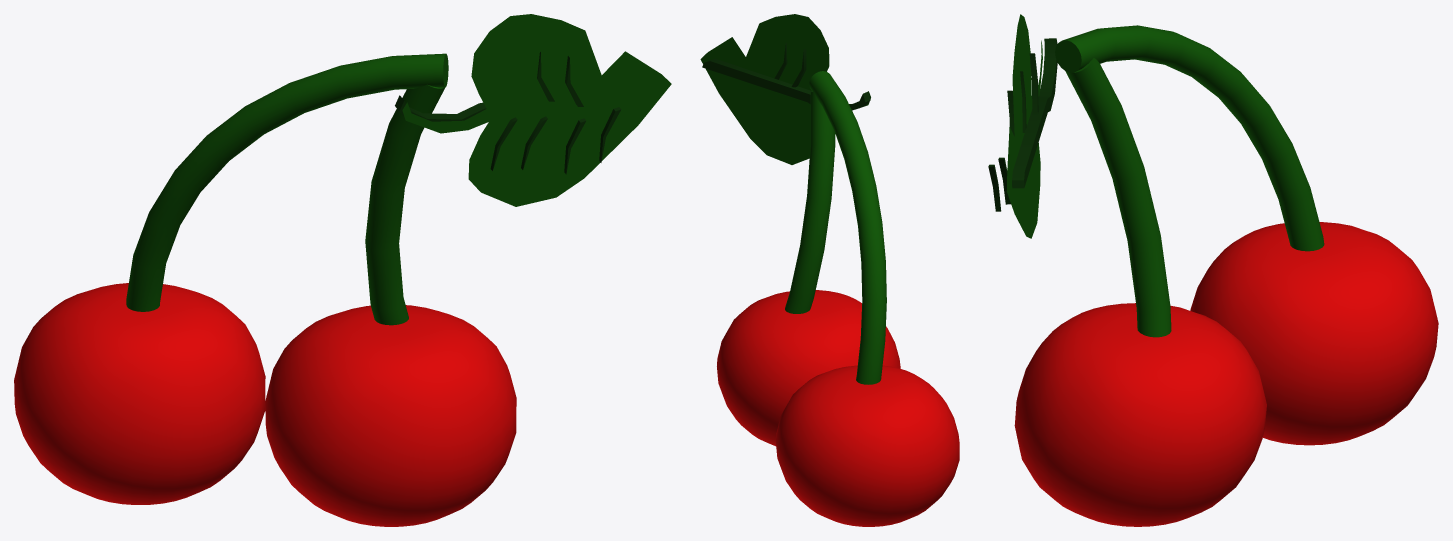
The model's file is cherries.FBX.
3 renders of one model, left to right at view 1: azimuth 30°, elevation 25°; view 2: azimuth 150°, elevation 25°; view 3: azimuth 270°, elevation 25°, orthographic. The views are drawn at different scales.
Visible parts, largest first — view 1: Sphere002, Sphere001, Line023, Cylinder001, Cylinder002, Line024; view 2: Sphere001, Sphere002, Line023, Cylinder001, Cylinder002, Line024; view 3: Sphere002, Sphere001, Cylinder001, Cylinder002, Line023, Line024.
Part boxes in pixels (bbox=[...]): Sphere002: bbox=[265, 305, 516, 526]; Sphere001: bbox=[14, 283, 265, 504]; Line023: bbox=[402, 14, 671, 206]; Cylinder001: bbox=[126, 53, 448, 311]; Cylinder002: bbox=[365, 84, 444, 325]; Line024: bbox=[395, 95, 486, 121]; Sphere001: bbox=[775, 365, 959, 526]; Sphere002: bbox=[717, 290, 900, 446]; Line023: bbox=[700, 14, 870, 164]; Cylinder001: bbox=[809, 71, 886, 384]; Cylinder002: bbox=[785, 91, 835, 313]; Line024: bbox=[702, 58, 870, 110]; Sphere002: bbox=[1014, 303, 1266, 526]; Sphere001: bbox=[1190, 222, 1438, 445]; Cylinder001: bbox=[1055, 25, 1324, 251]; Cylinder002: bbox=[1065, 58, 1171, 337]; Line023: bbox=[1006, 14, 1042, 238]; Line024: bbox=[1012, 38, 1057, 188].
Bounding box in the file's own units: 36.32 × 37 × 28.69.
